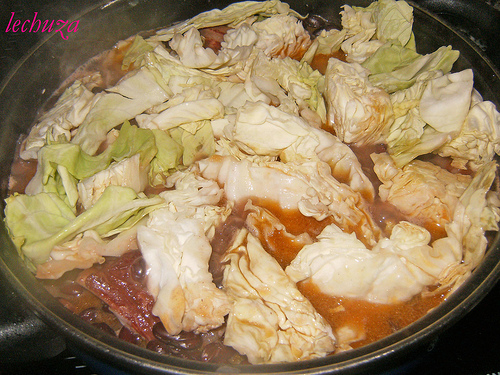cabbage: (5, 0, 499, 365)
